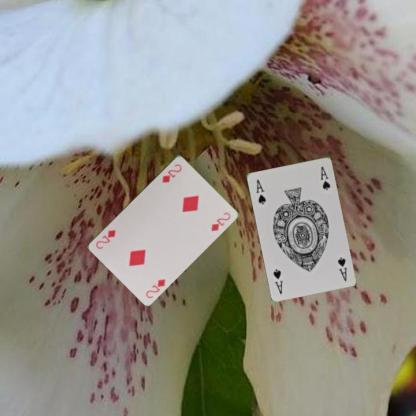2d: (160, 161, 183, 184), (144, 276, 166, 299)
As: (253, 176, 267, 206), (334, 255, 349, 282)
